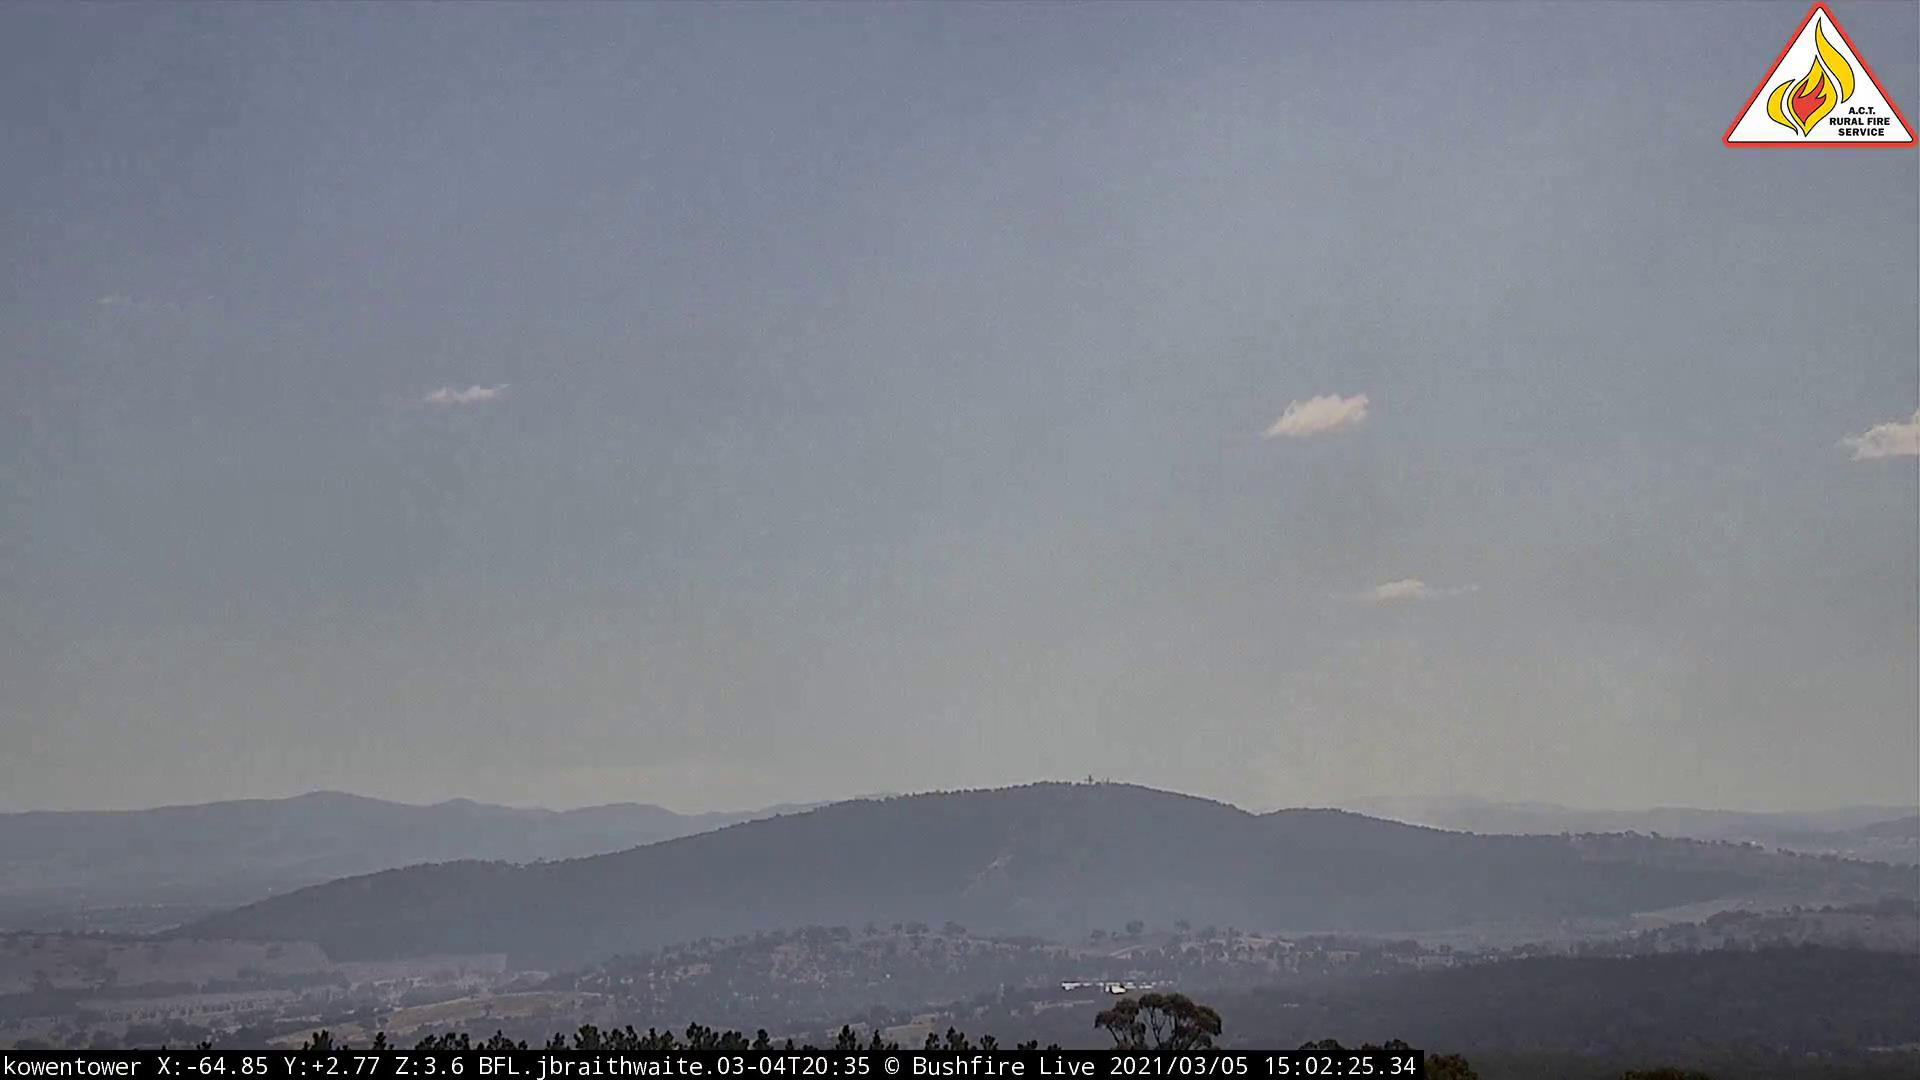instance_salient_object: (1042, 522, 1865, 852)
